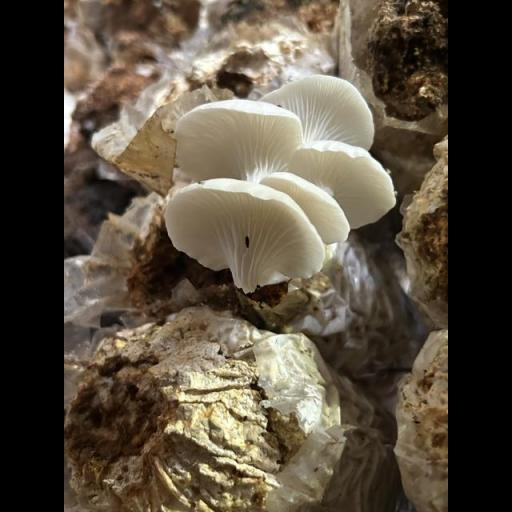White Oyster Mushroom: (165, 77, 394, 286)
